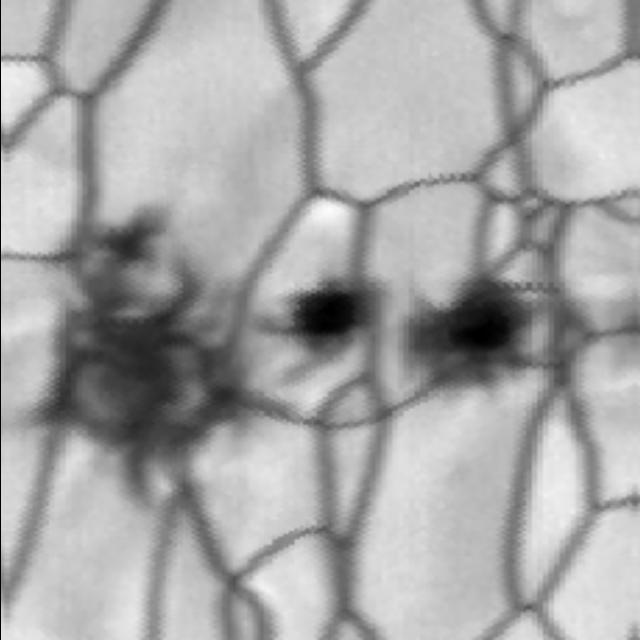good_void: (35, 195, 248, 504), (404, 273, 537, 401), (262, 265, 366, 362)
